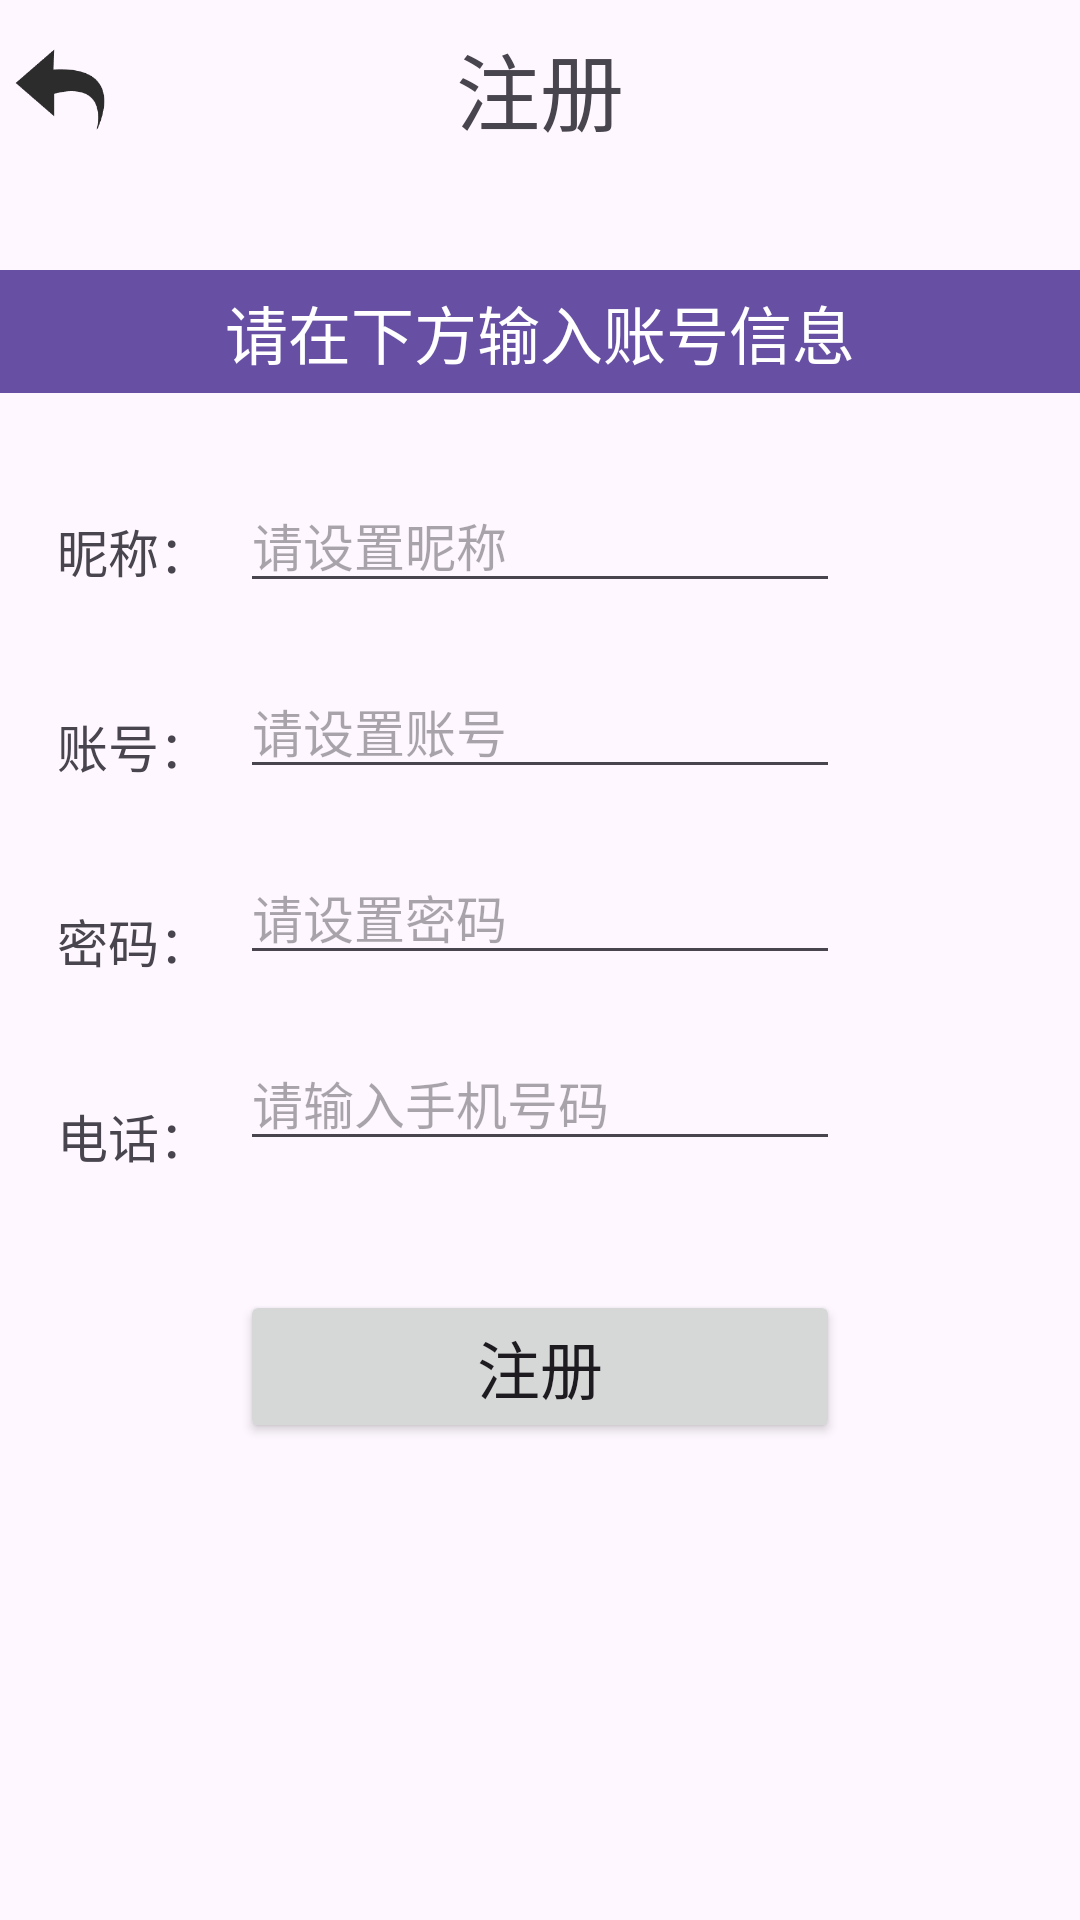

Named icons in this screenshot (1080 × 1920) and their bounding boxes, bbox(x1, y1, x2, y2):
返回按钮: bbox(16, 50, 105, 129)
